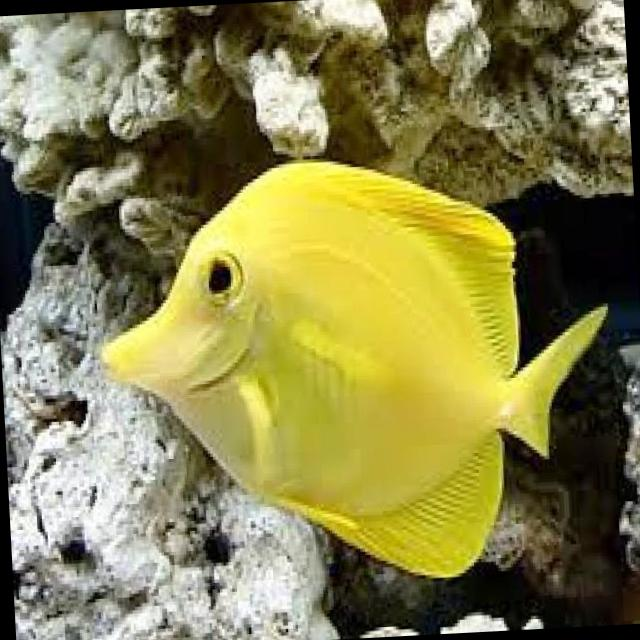TangFish: (86, 137, 623, 598)
